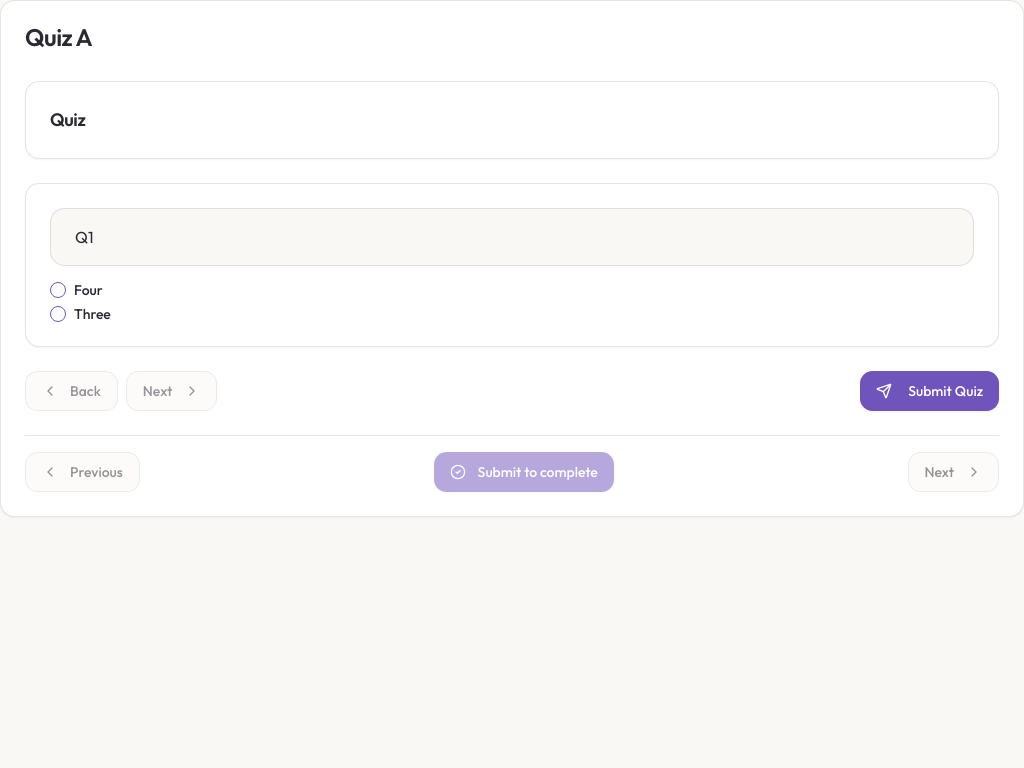
Test case: LessonViewer forwards the progress result to the quiz player › false then true: one submission, result kept, retry calls onMarkDone(itemId, "submission") again
Click the radio button named "Four" next to "Four": (58, 290) [50,282,66,298]
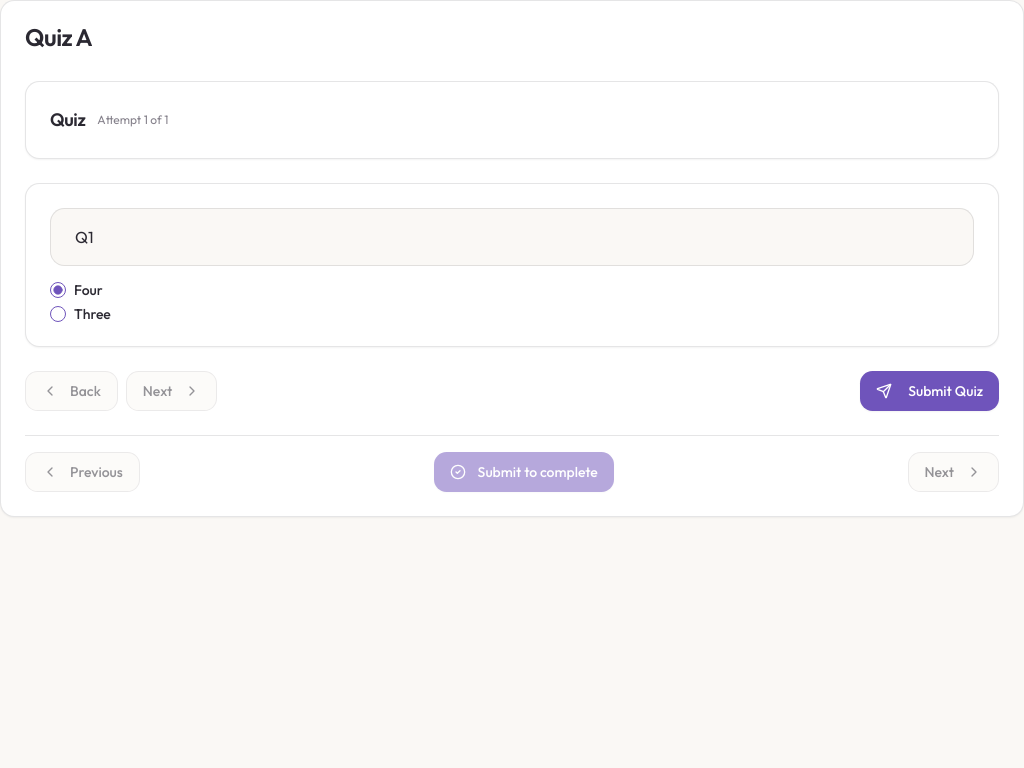
Click the button "Submit Quiz": (930, 391) [860,371,999,411]
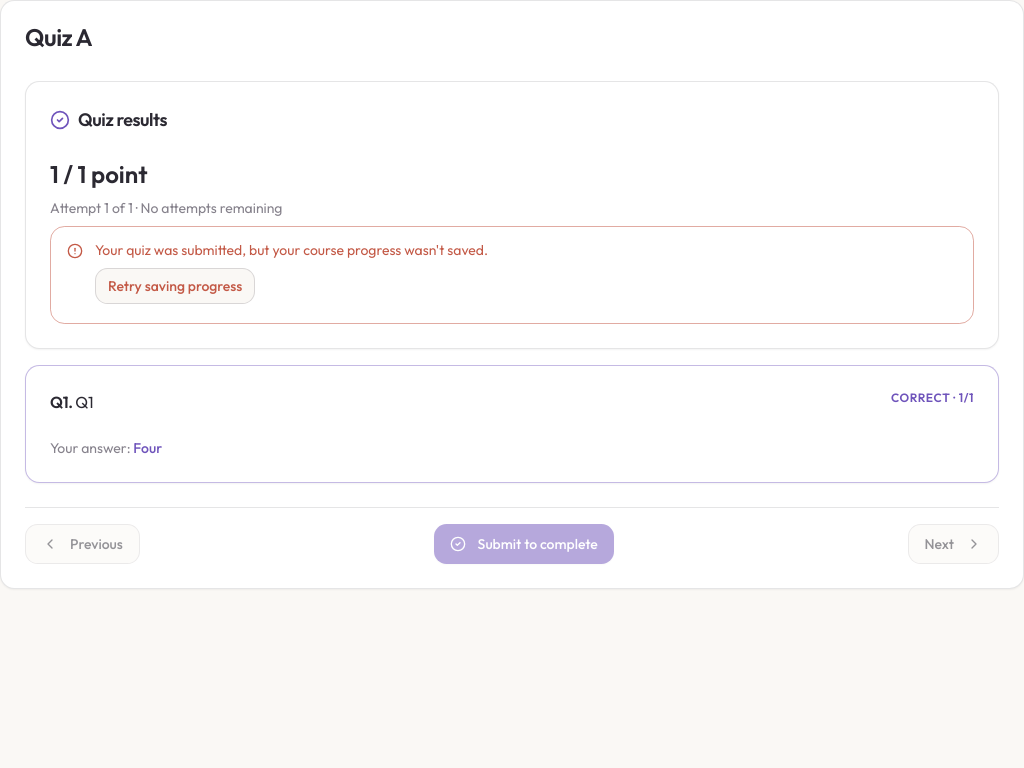
Check: the text "your course progress wasn't saved" is shown, box [95,241,488,259]
Check: the text "1 / 1 point" is shown, box [50,159,148,189]
Click the button "Retry saving progress": (175, 286) [95,268,255,304]
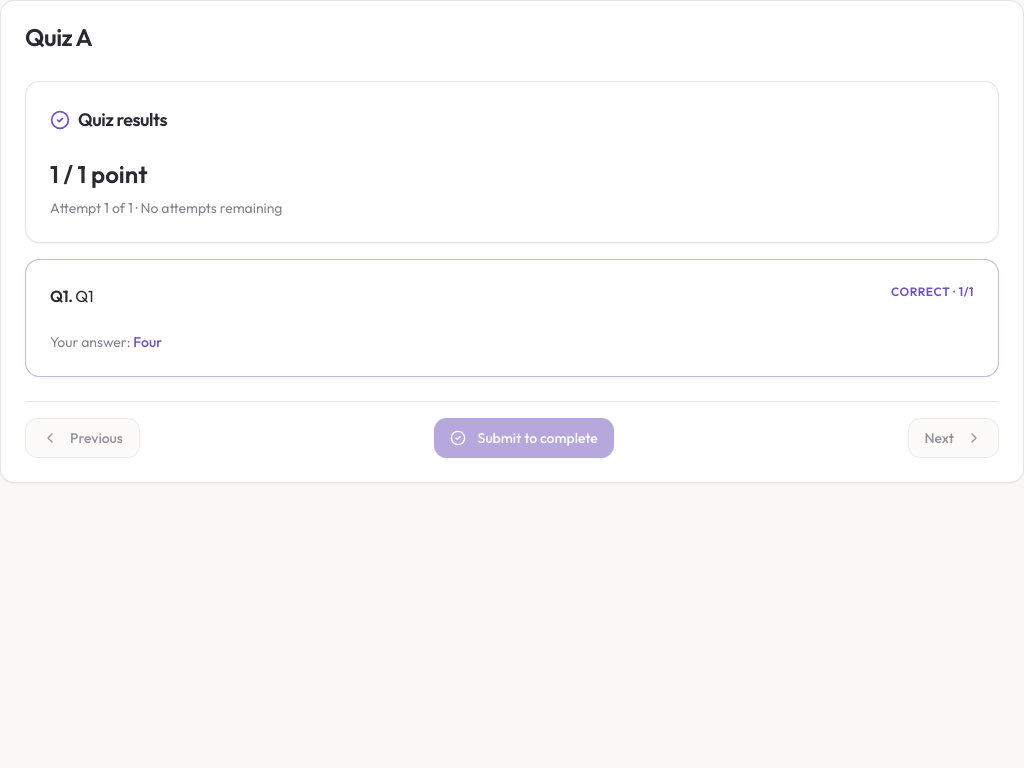
Check: the text "1 / 1 point" is shown, box [50,159,148,189]
Check: the text "your course progress wasn't saved" is gone
